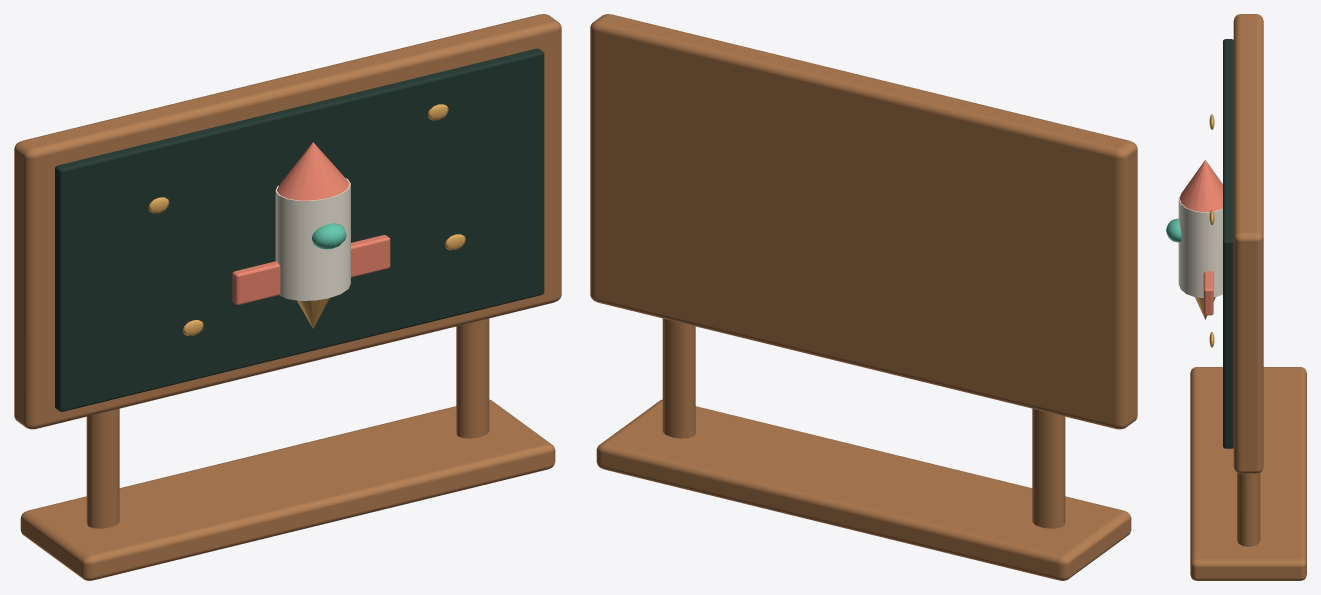
File: motivational-poster.glb
The picture shows the model from 3 angles, left to right: view 1: azimuth 30°, elevation 25°; view 2: azimuth 150°, elevation 25°; view 3: azimuth 270°, elevation 25°; orthographic projection. The views are drawn at different scales.
Parts seen in each view (by area): view 1: motivational_poster; view 2: motivational_poster; view 3: motivational_poster.
Boxes of the visible parts, x1=… form: motivational_poster: x1=14, y1=14, x2=561, y2=580; motivational_poster: x1=590, y1=14, x2=1137, y2=580; motivational_poster: x1=1166, y1=14, x2=1306, y2=580.
Size of the model in its own units: 3.93 by 2.94 by 1.04.
